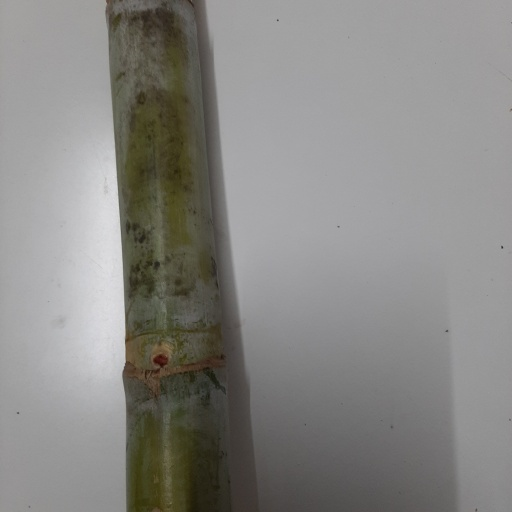Damage_Bud: (150, 339, 172, 373)
